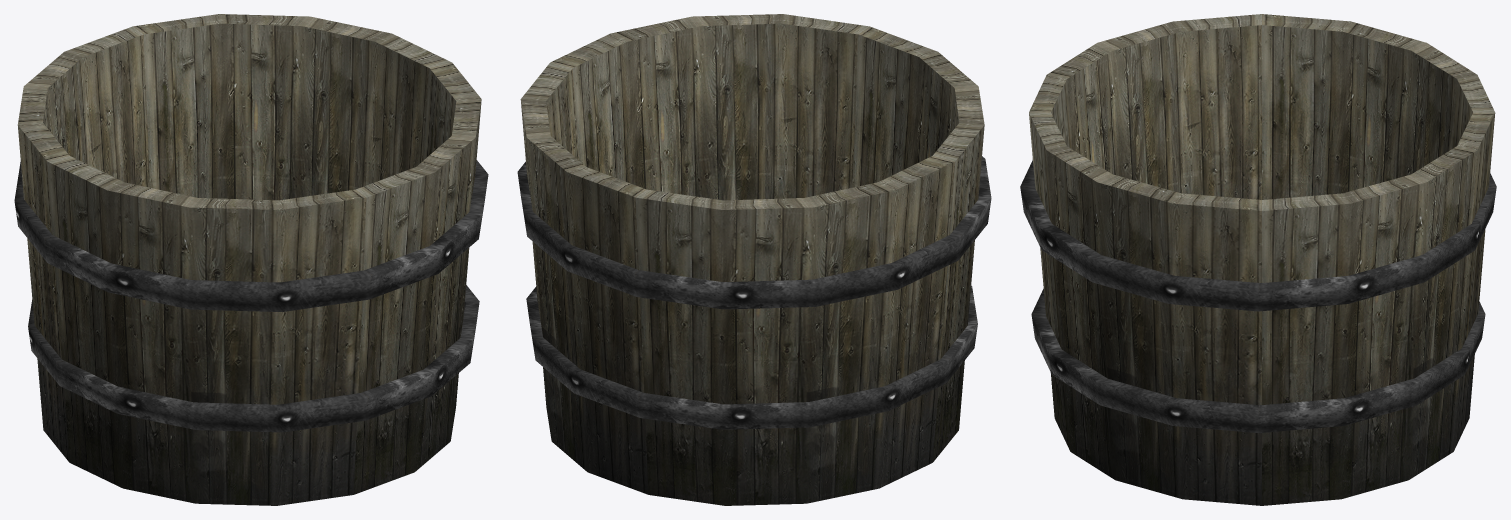
File: wanna_zwykla.fbx
3 views of the same model, side by side, from view 1: azimuth 30°, elevation 25°; view 2: azimuth 150°, elevation 25°; view 3: azimuth 270°, elevation 25° (orthographic).
Parts seen in each view (by area): view 1: Cylinder; view 2: Cylinder; view 3: Cylinder.
Part boxes in pixels (x1=…): Cylinder: x1=14, y1=14, x2=488, y2=505; Cylinder: x1=517, y1=14, x2=991, y2=505; Cylinder: x1=1020, y1=14, x2=1496, y2=505.
Bounding box in the file's own units: 2.3 × 1.63 × 2.3.
